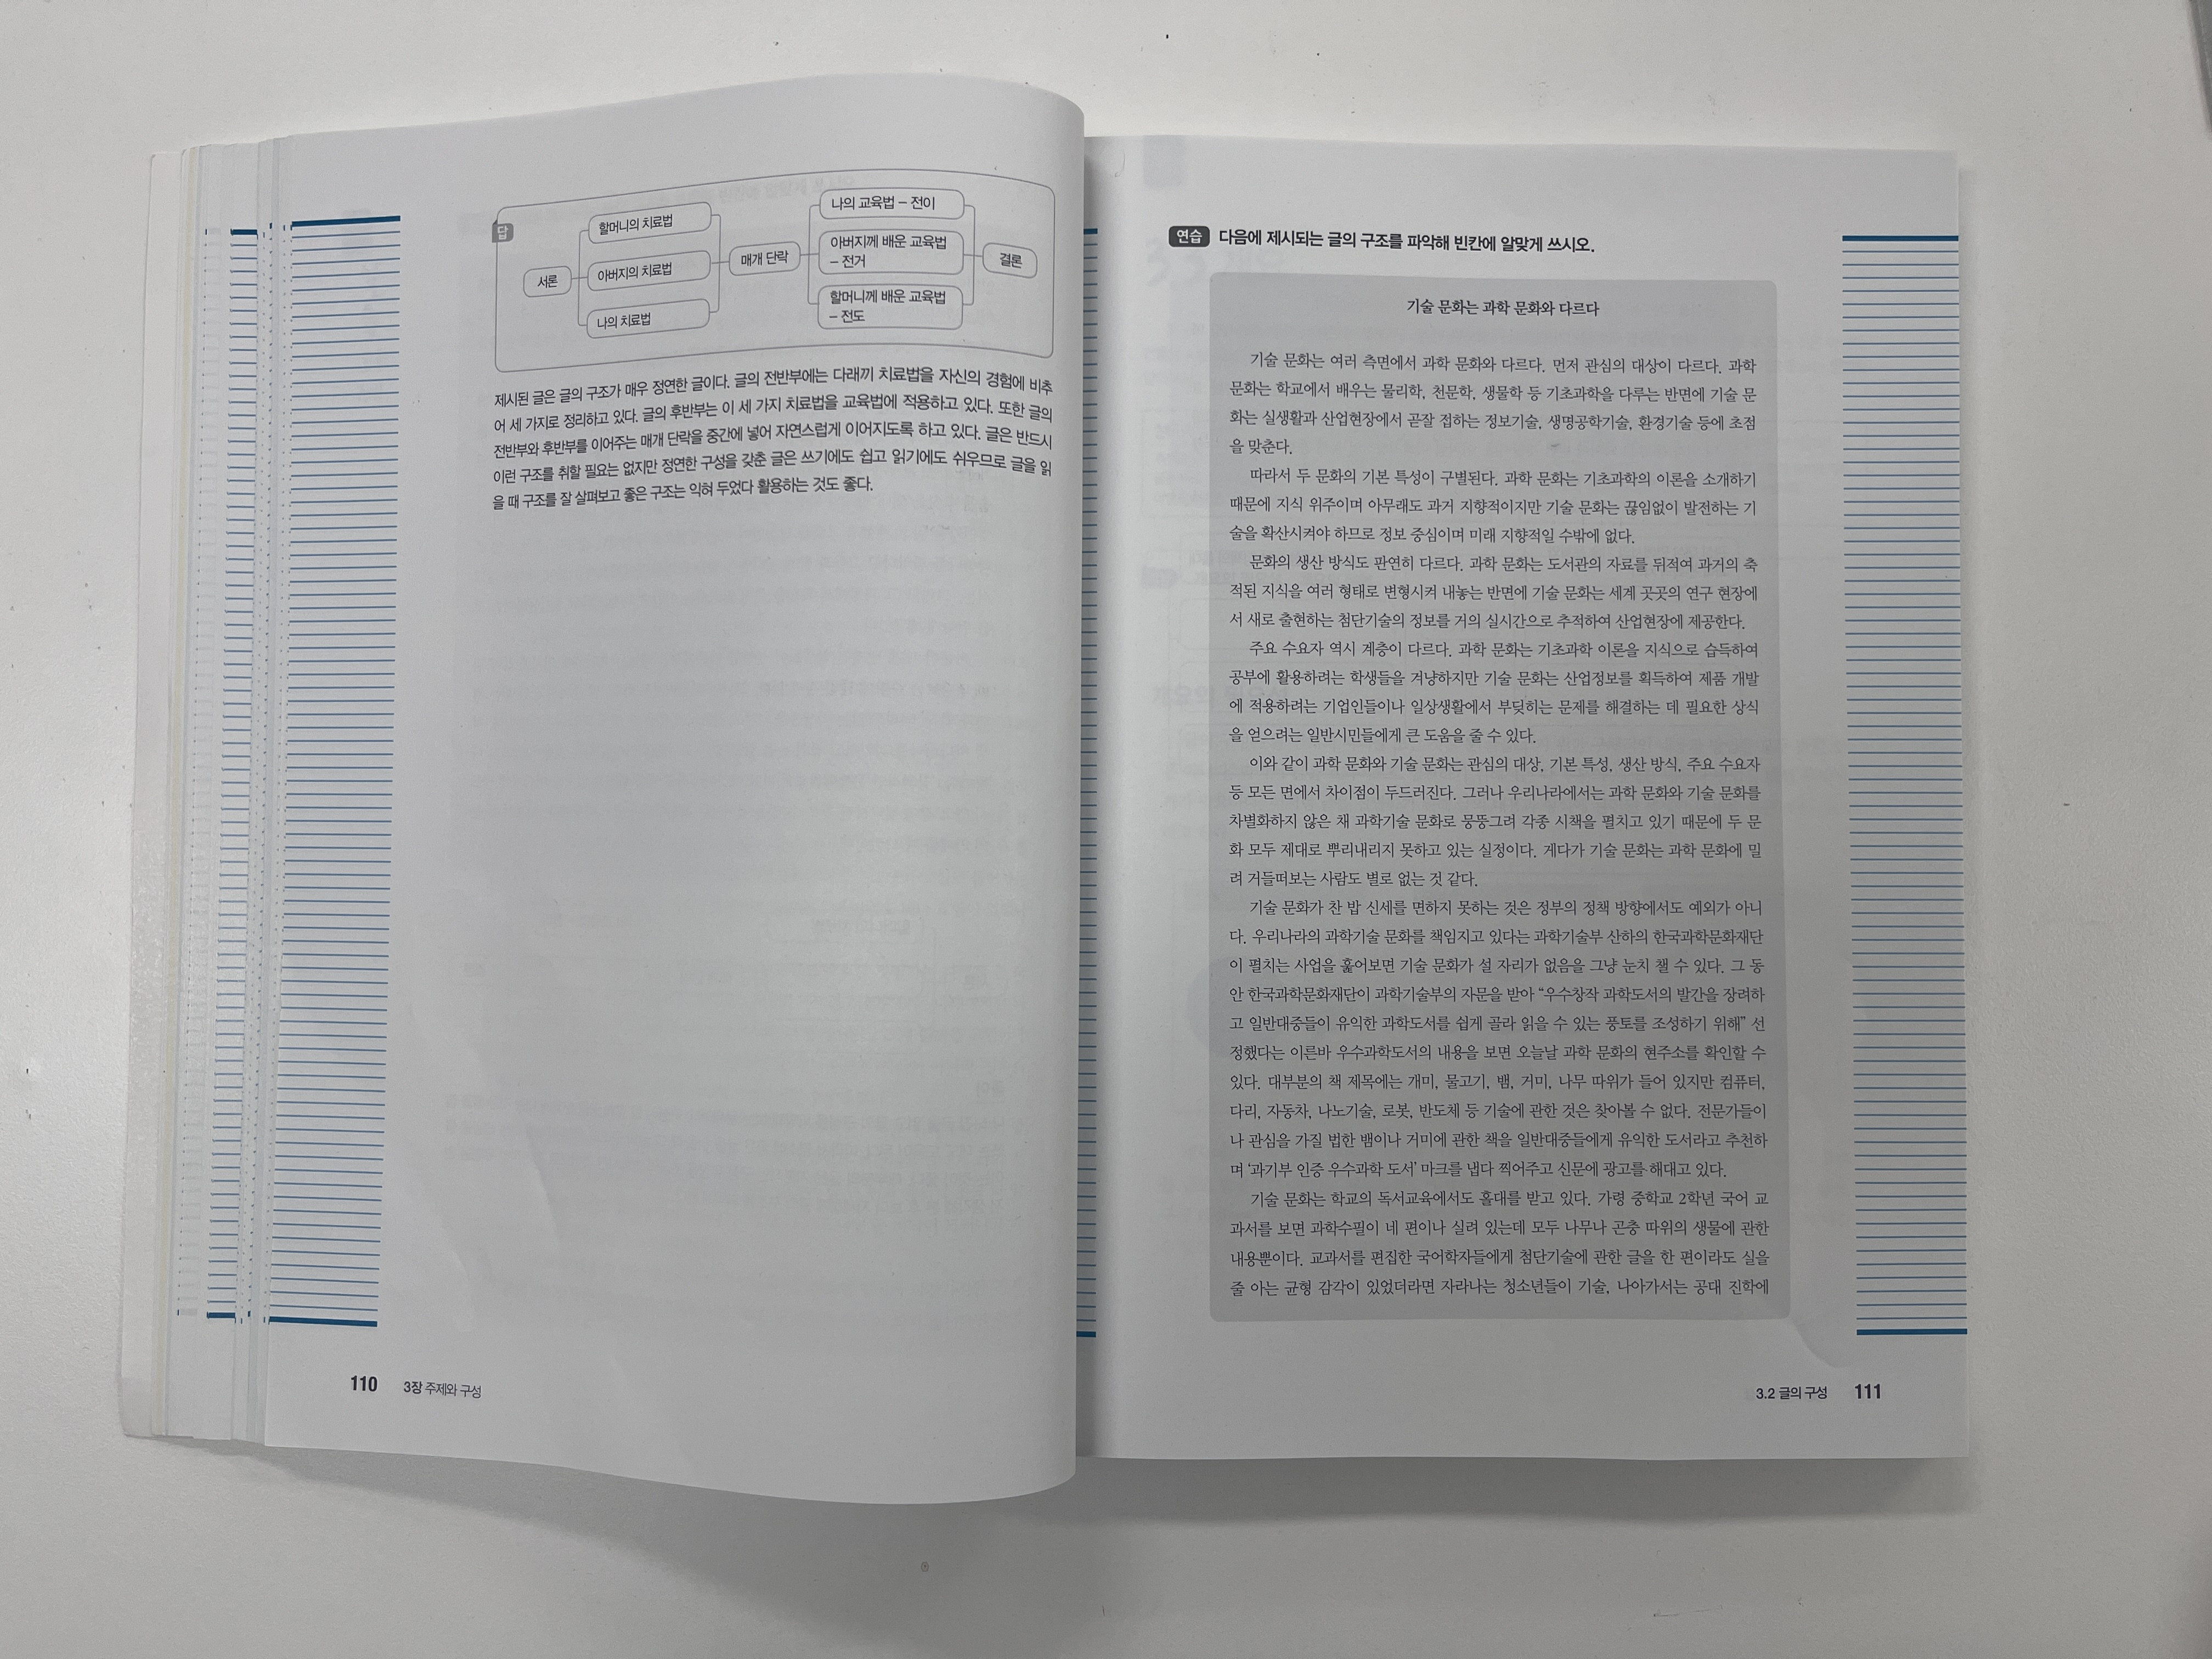left page: (99, 51, 1085, 1504)
right page: (1083, 64, 2005, 1516)
